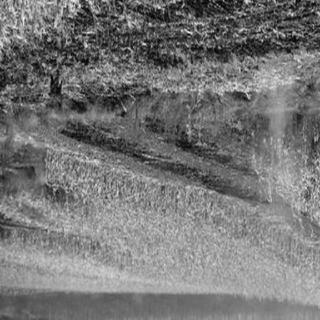Fire: (130, 59, 152, 97)
